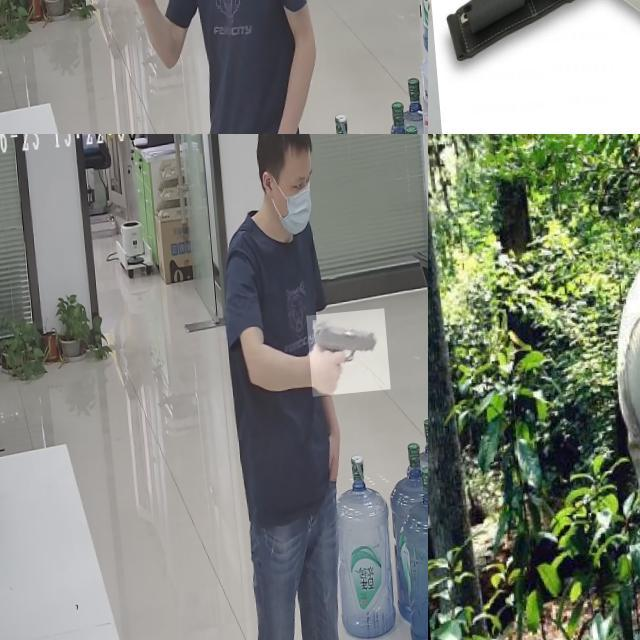-: (428, 15, 522, 134), (585, 0, 640, 98)
gun-knife-thesis - v11 Yolov5 augmented: (302, 317, 386, 404), (111, 0, 166, 64)
